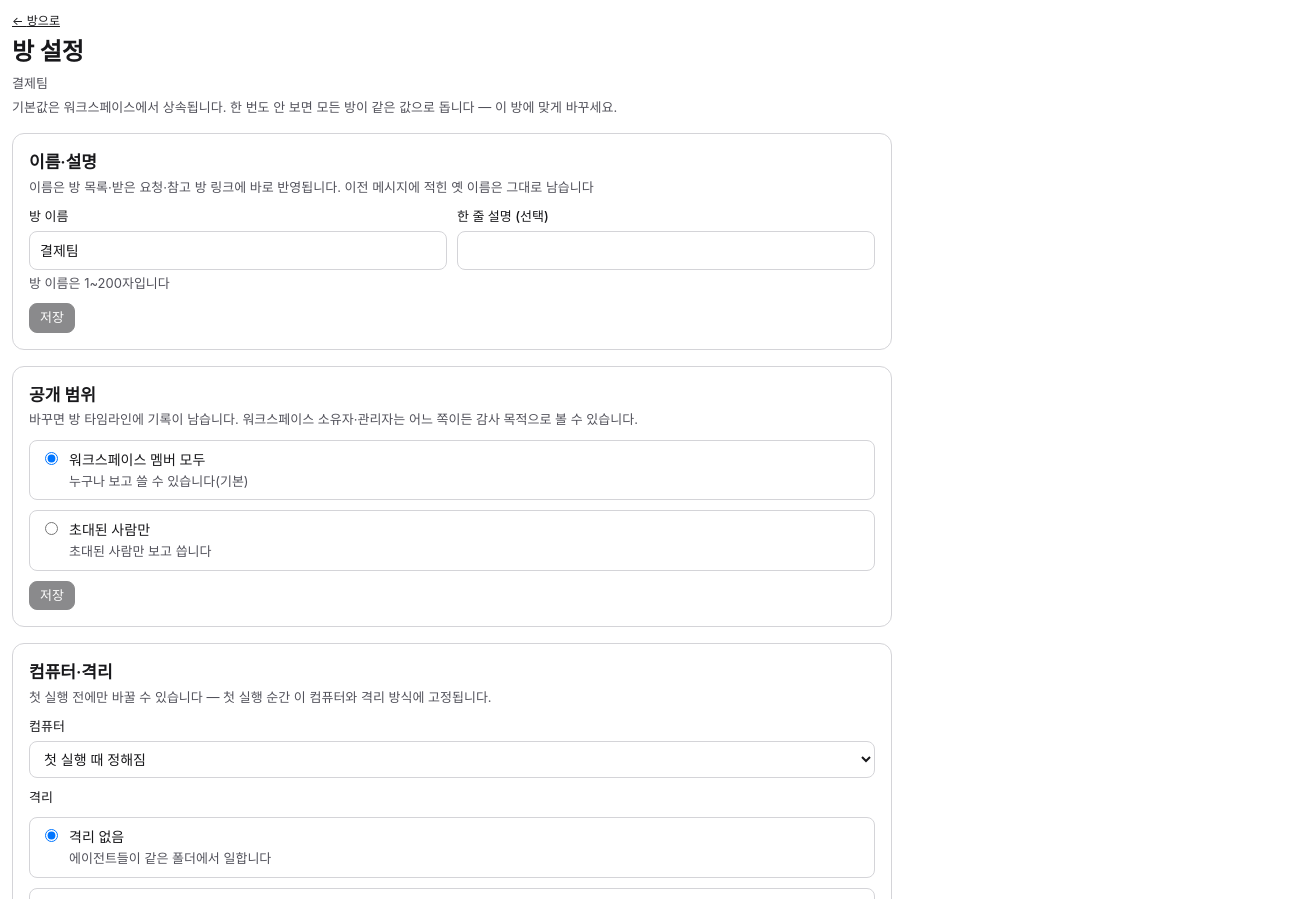
Test: S20 방 설정 › invited 로 바꿀 때 — 「초대되지 않은 N명이 더는 볼 수 없게 됩니다」(수는 슬롯, 멤버 중 비참여자)
Click the radio button with test id "rd-settings-vis-invited": x=52, y=528 [45,522,58,535]
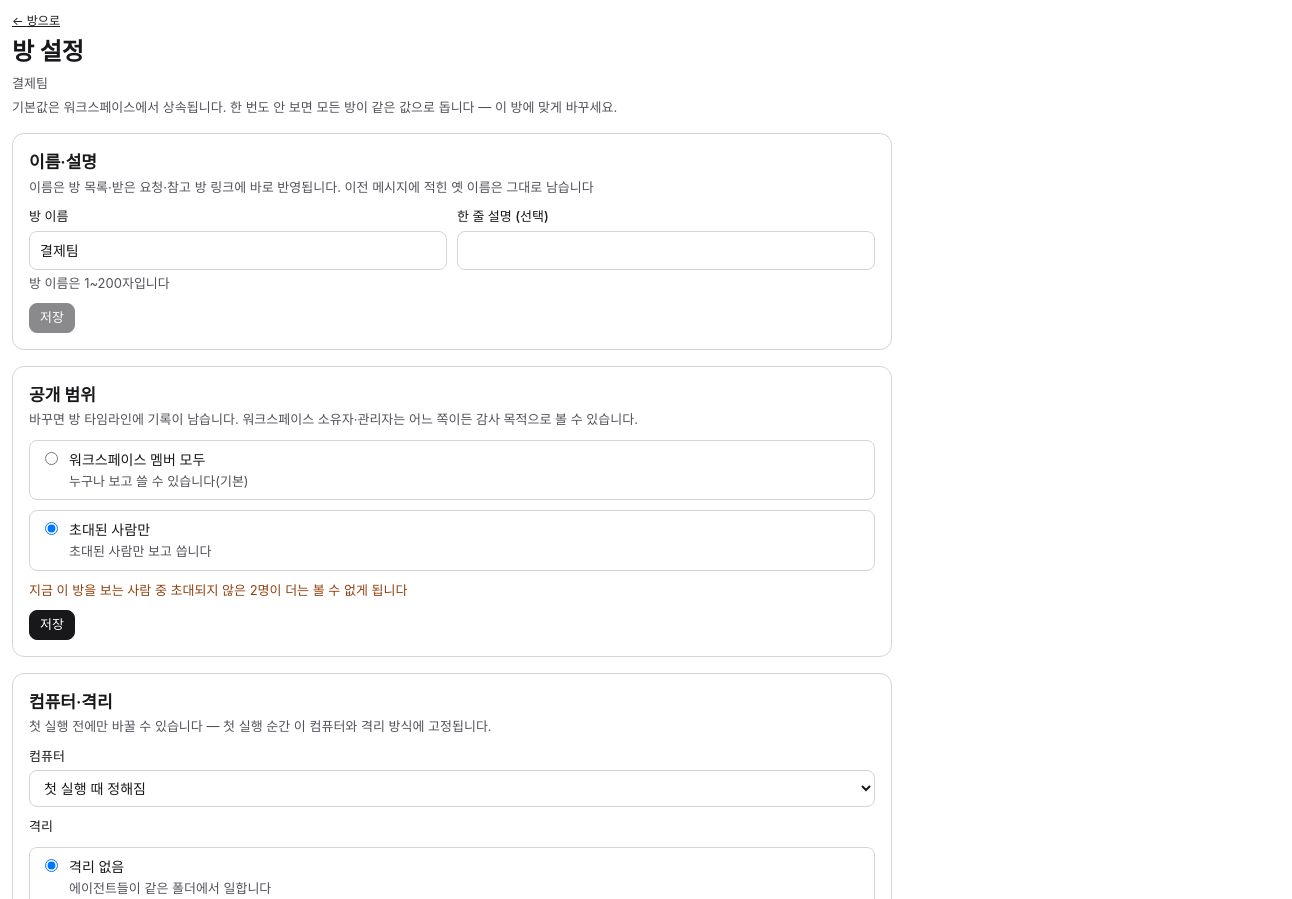
Check: the text "2" is shown, box [250,582,258,598]
